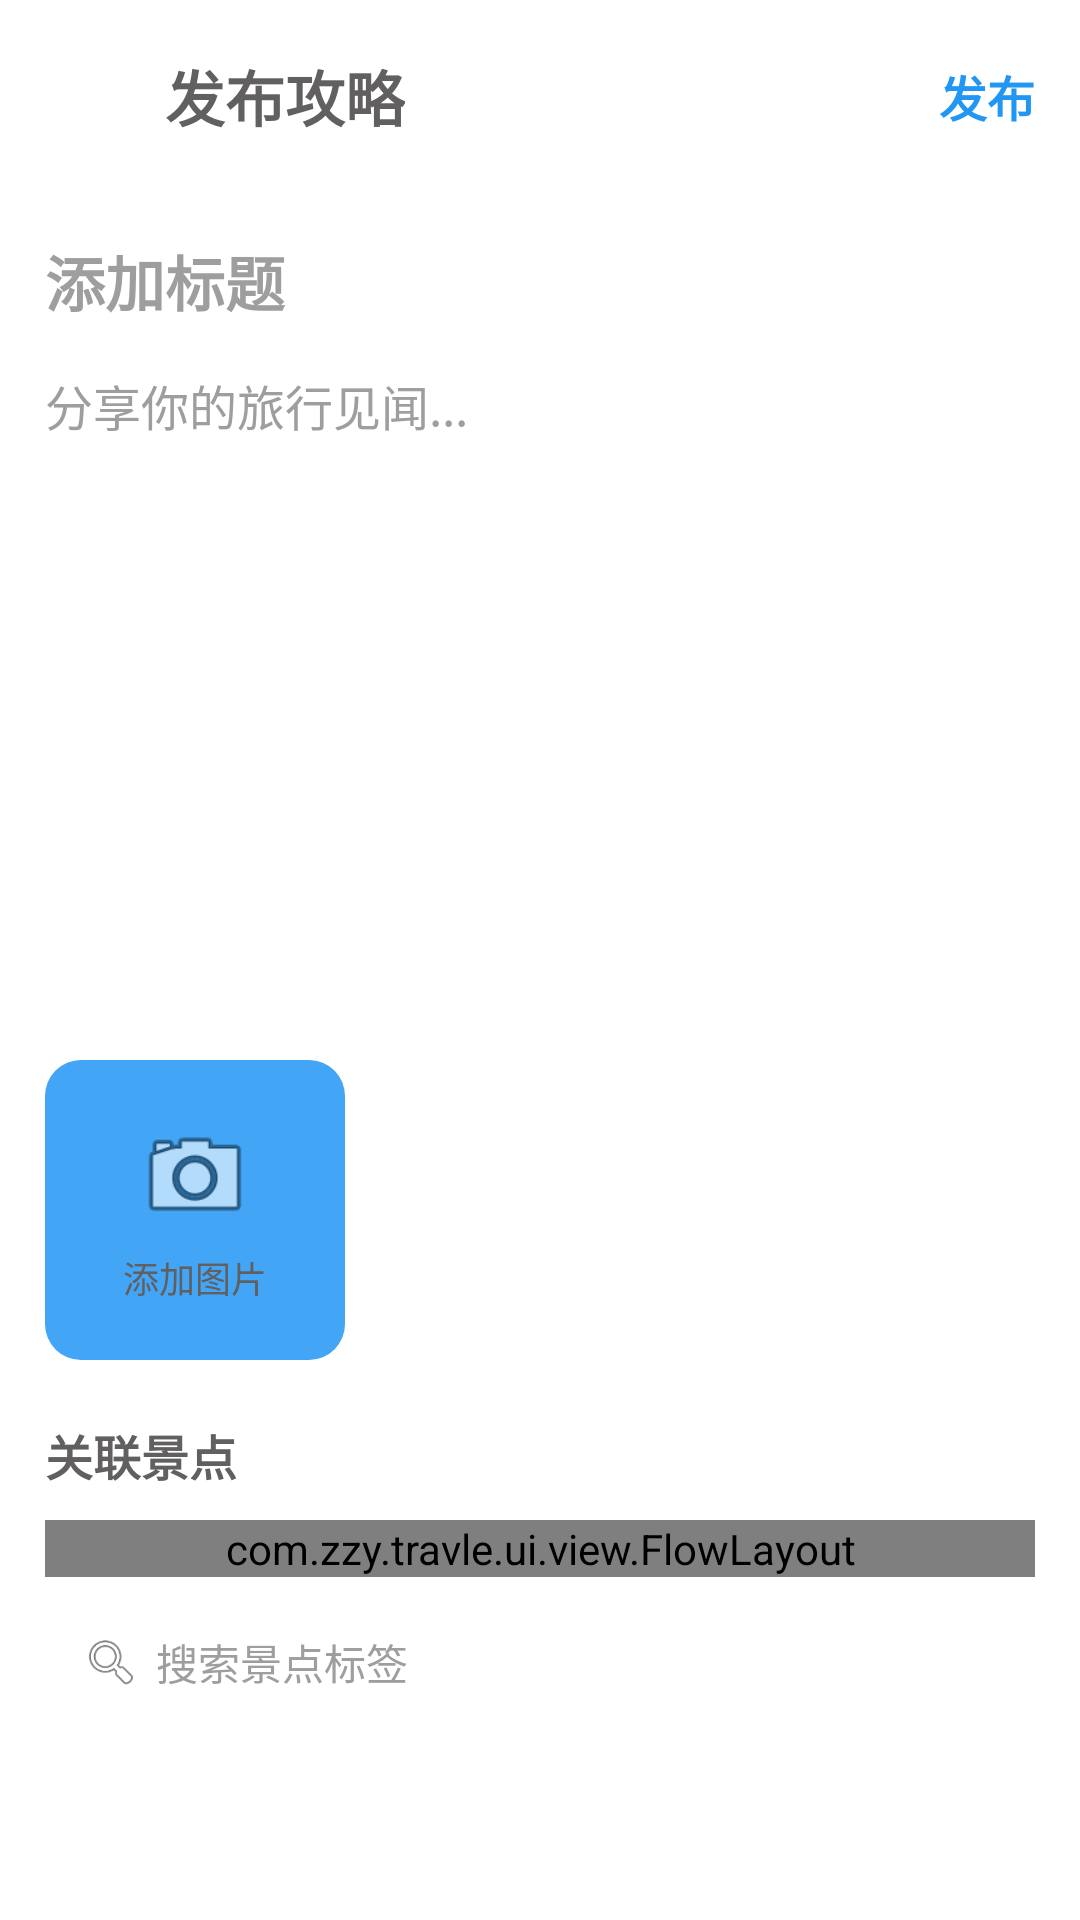

Where to tap for icons on this 1080×1920 app screen, as (x,y):
camera: (195,1174)
